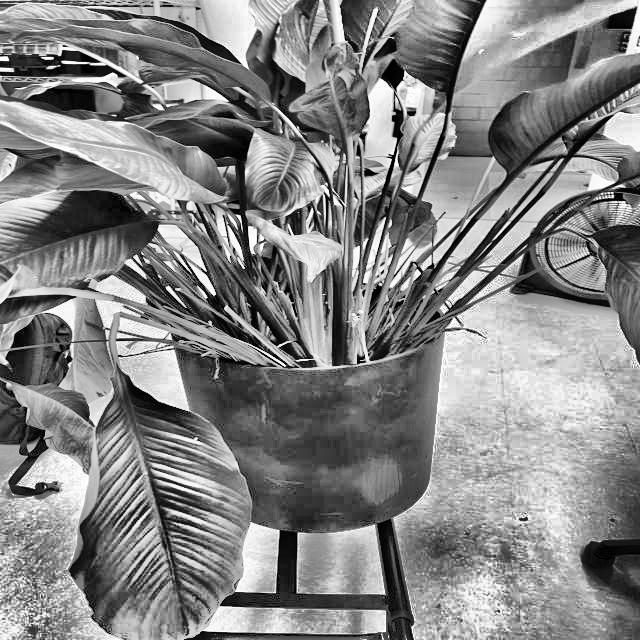plants: (64, 2, 623, 358)
